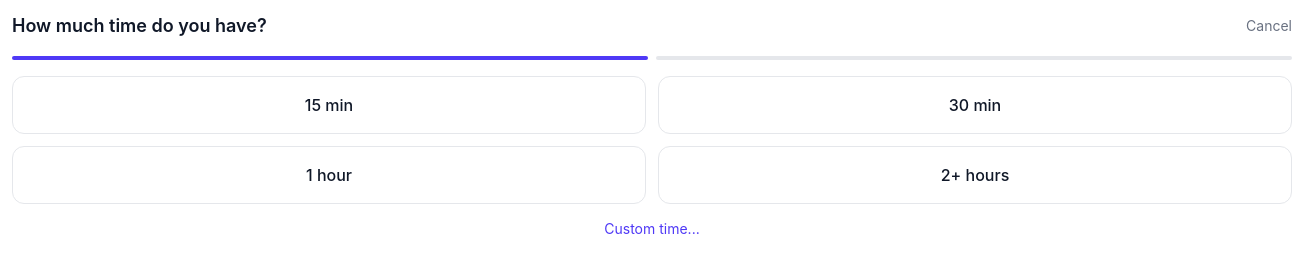
Test: FreeTimeFlow › Custom time input › disables Next button when custom input is empty or zero
Click the button "Custom time..." at [652, 229], box [12,219,1292,239]
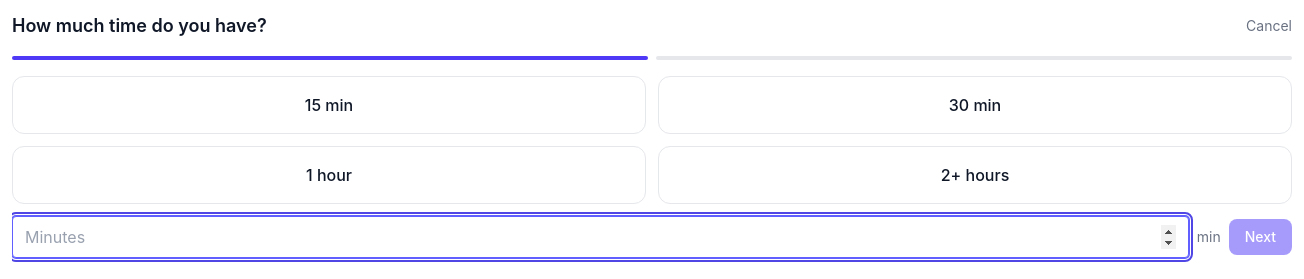
expect the button "Next" is disabled: met, box [1229,219,1292,255]
